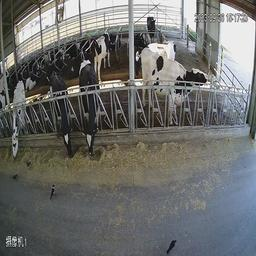cow: (139, 46, 209, 126), (73, 56, 104, 156), (46, 69, 74, 159), (8, 76, 34, 164), (93, 27, 120, 78), (143, 9, 160, 39)
